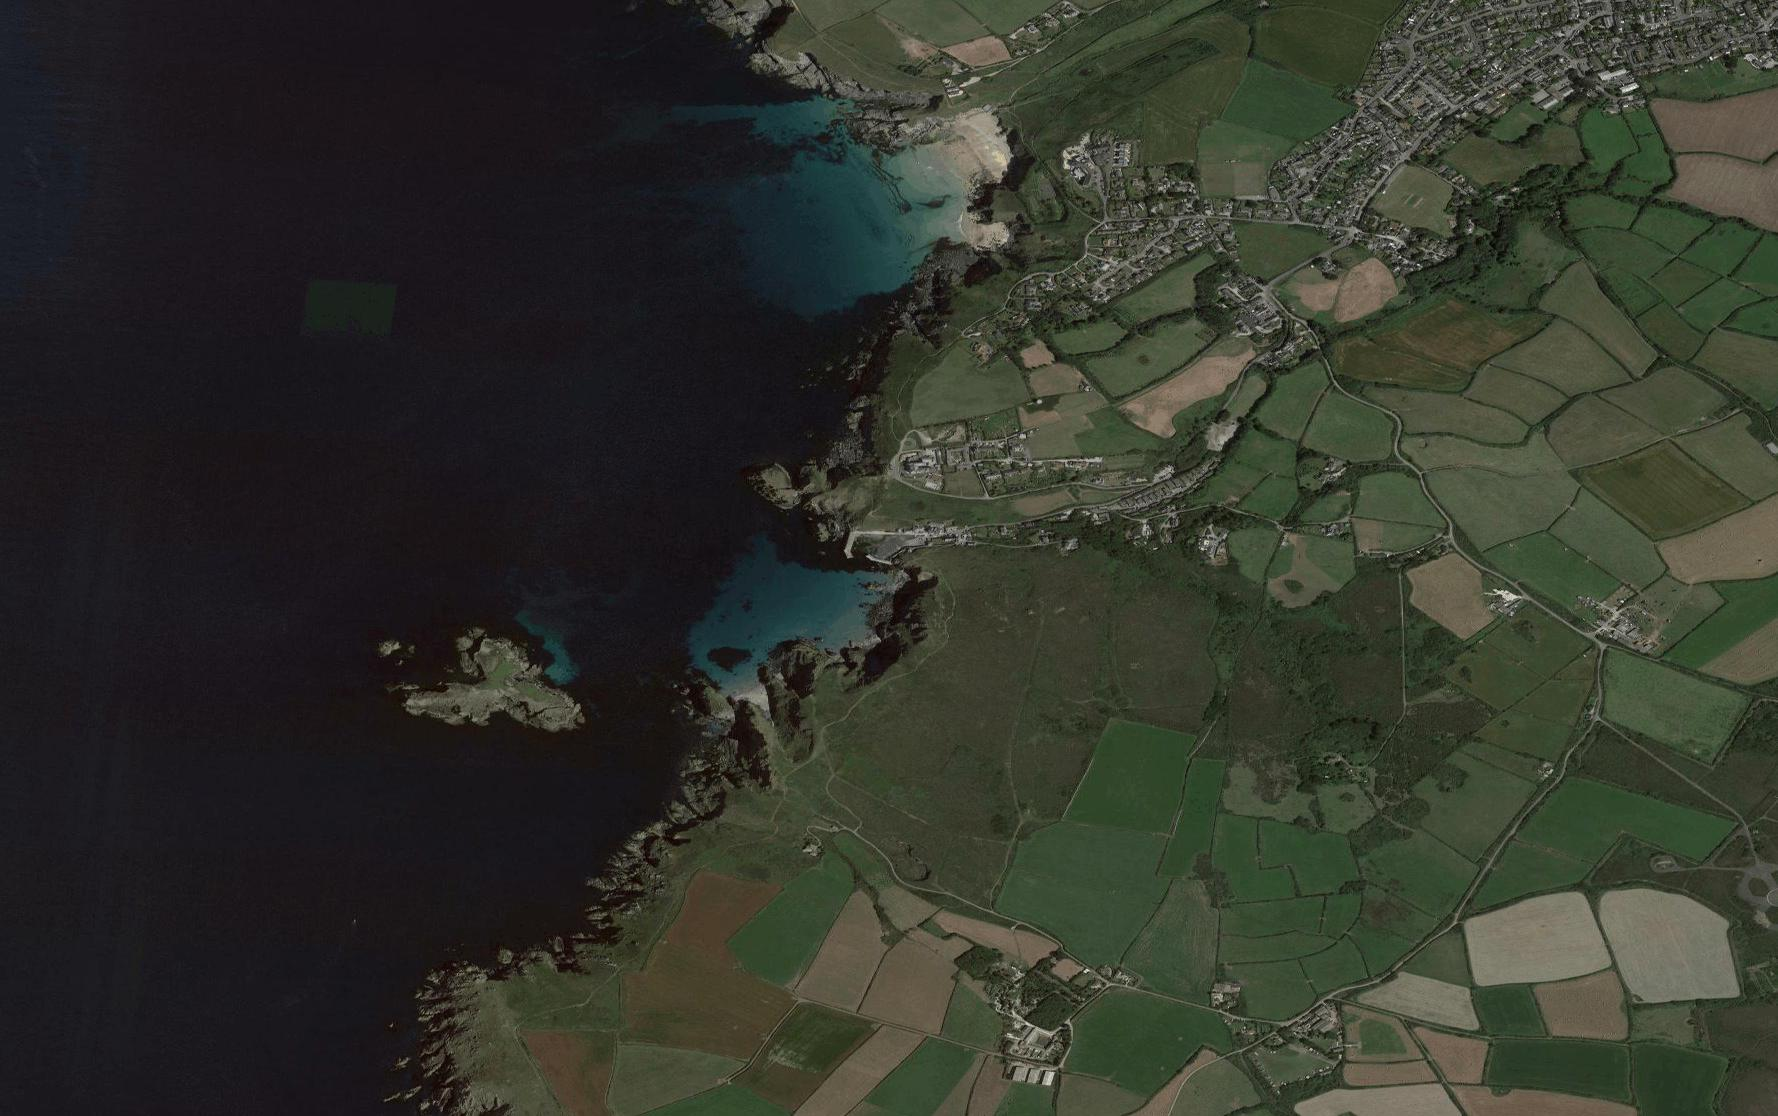harbor: (827, 527, 899, 585)
